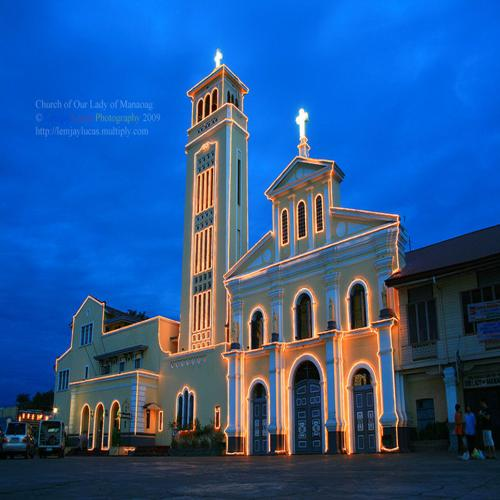Manaoag Church: (177, 43, 399, 452)
